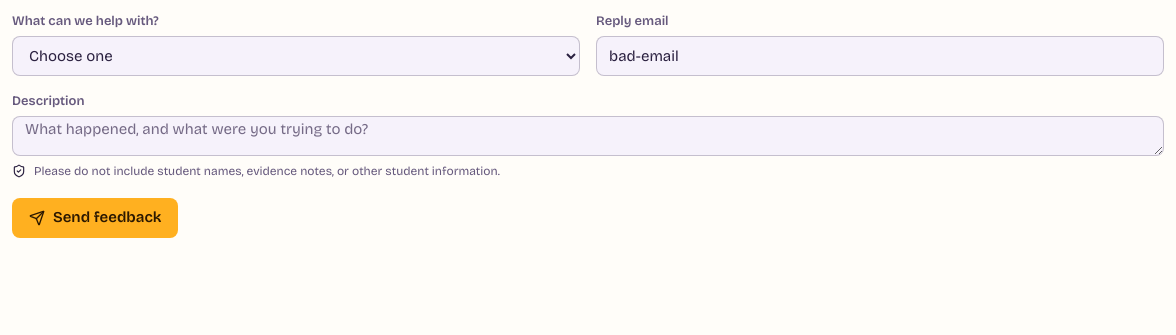
HelpFeedbackForm › preserves values, marks fields, and focuses the error summary
Type "Please help." into the text box labelled "Description".
click(588, 136); type("Please help.")  # box [12,116,1164,156]
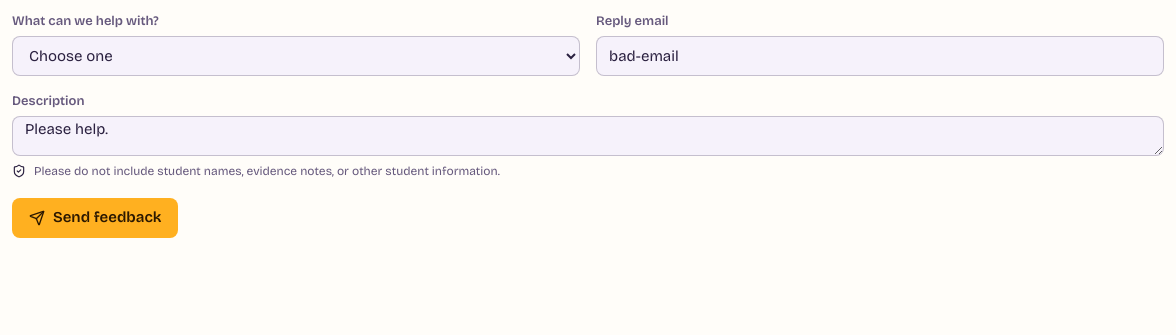
Click the button "Send feedback".
click(95, 218)  # box [12,198,178,238]
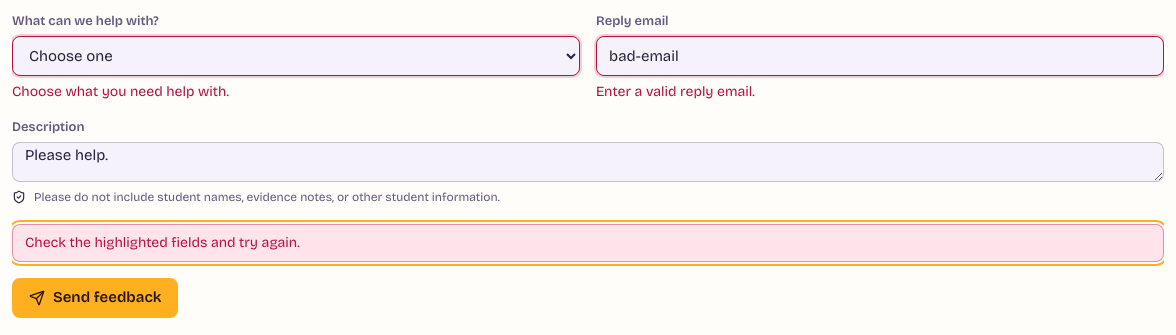
Check: the field labelled "Reply email" holds "bad-email", box [596,36,1164,76]
Check: the message reads "Check the highlighted fields and try again.", box [25,234,300,250]
